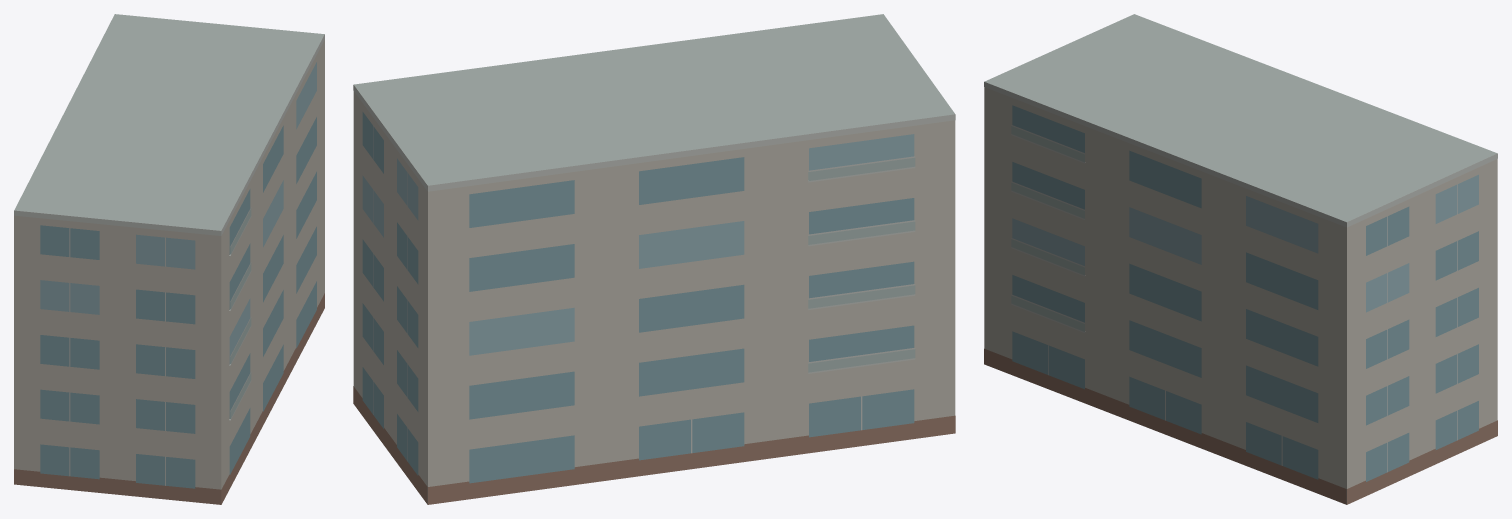
File: survey-upis-32524045.glb
3 renders of one model, left to right at view 1: azimuth 30°, elevation 25°; view 2: azimuth 150°, elevation 25°; view 3: azimuth 270°, elevation 25°, orthographic. The views are drawn at different scales.
Parts seen in each view (by area): view 1: survey-upis-32524045.tmp; view 2: survey-upis-32524045.tmp; view 3: survey-upis-32524045.tmp.
Part boxes in pixels (x1,y1,x2,y2): survey-upis-32524045.tmp: (14,14,324,504); survey-upis-32524045.tmp: (353,14,955,504); survey-upis-32524045.tmp: (984,14,1497,504).
Size of the model in its own units: 20.56 by 13 by 21.42.
